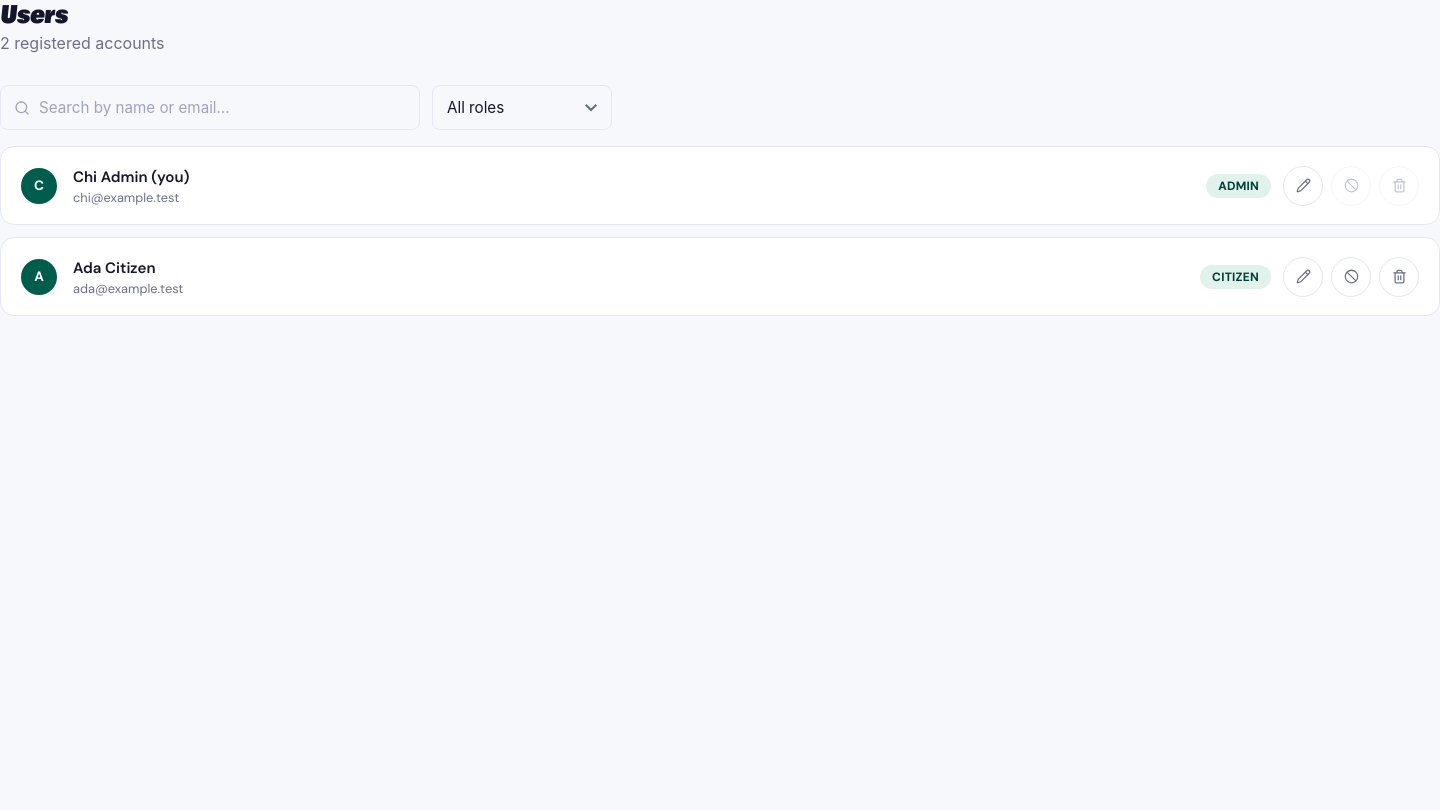
UsersPage › offers an email change for another user in the edit dialog, but not for one's own account
expect the text "Ada Citizen" is shown: met, box [73,258,156,278]
Click the button named "Edit user" in the row of "ada@example.test". click: (1303, 276)
box: [1283,256,1323,296]
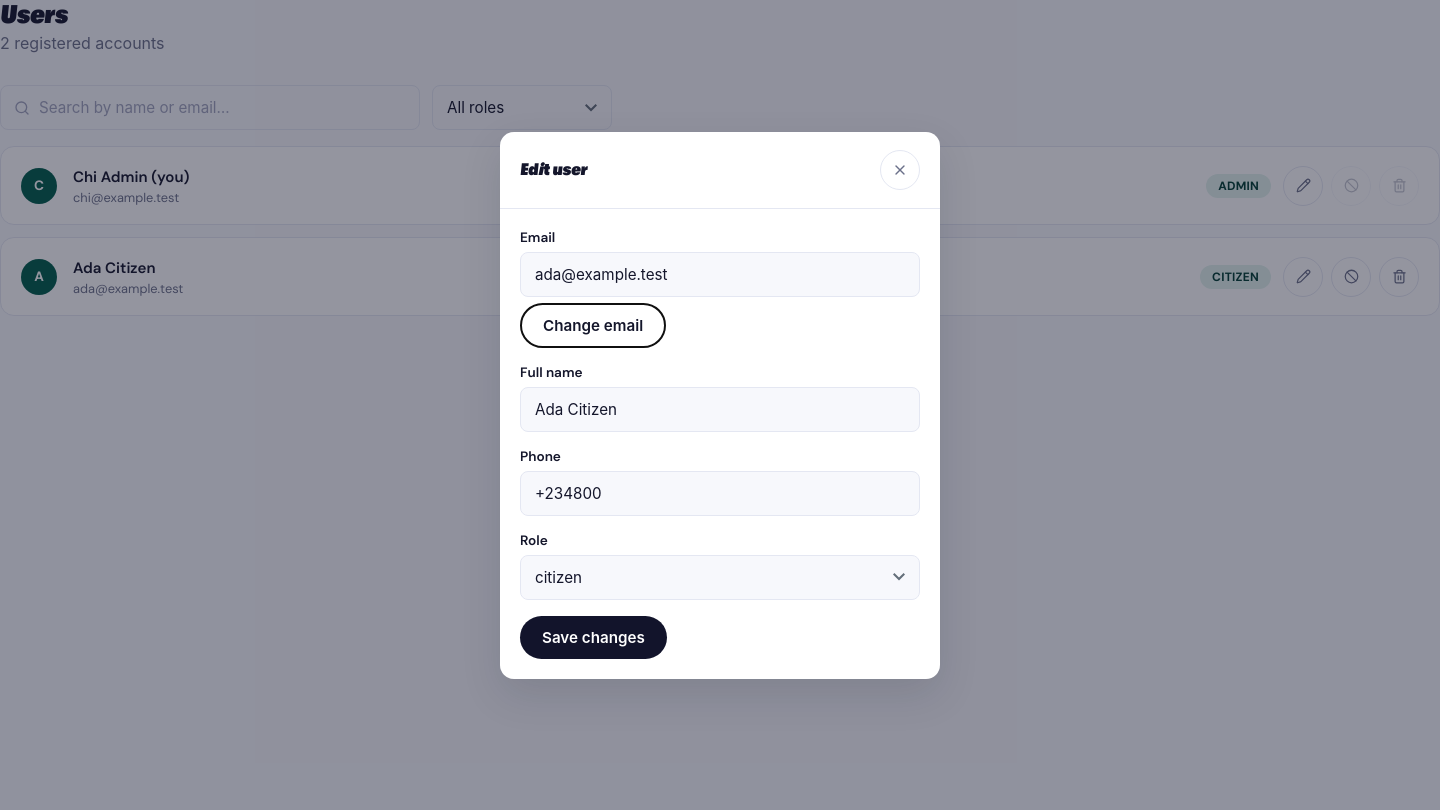
expect the button "Change email" is shown: met, box [520,302,666,348]
Click the button named "Close". click: (900, 170)
box: [880,150,920,190]
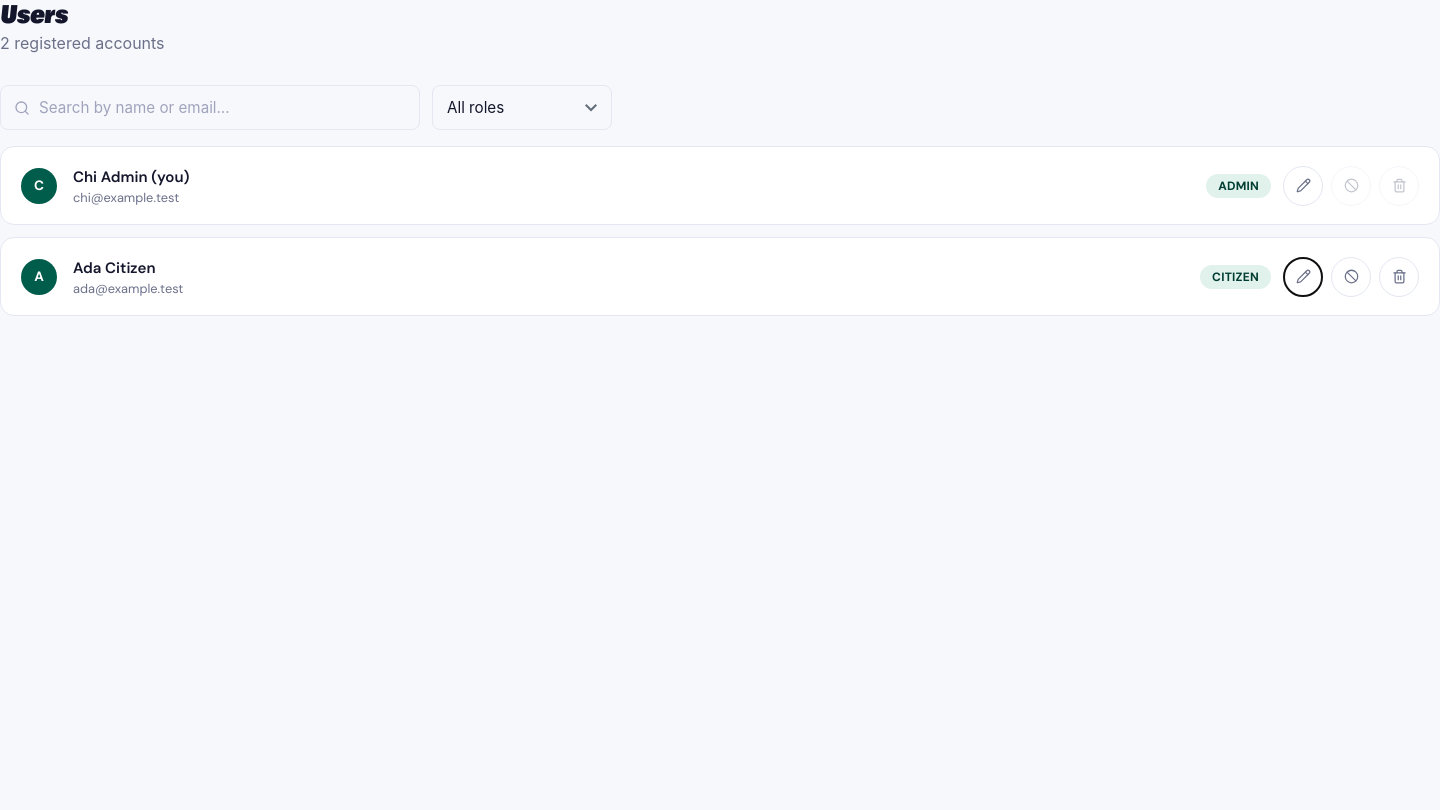
Click the button named "Edit user" in the row of "(you)". click: (1303, 186)
box: [1283,166,1323,206]
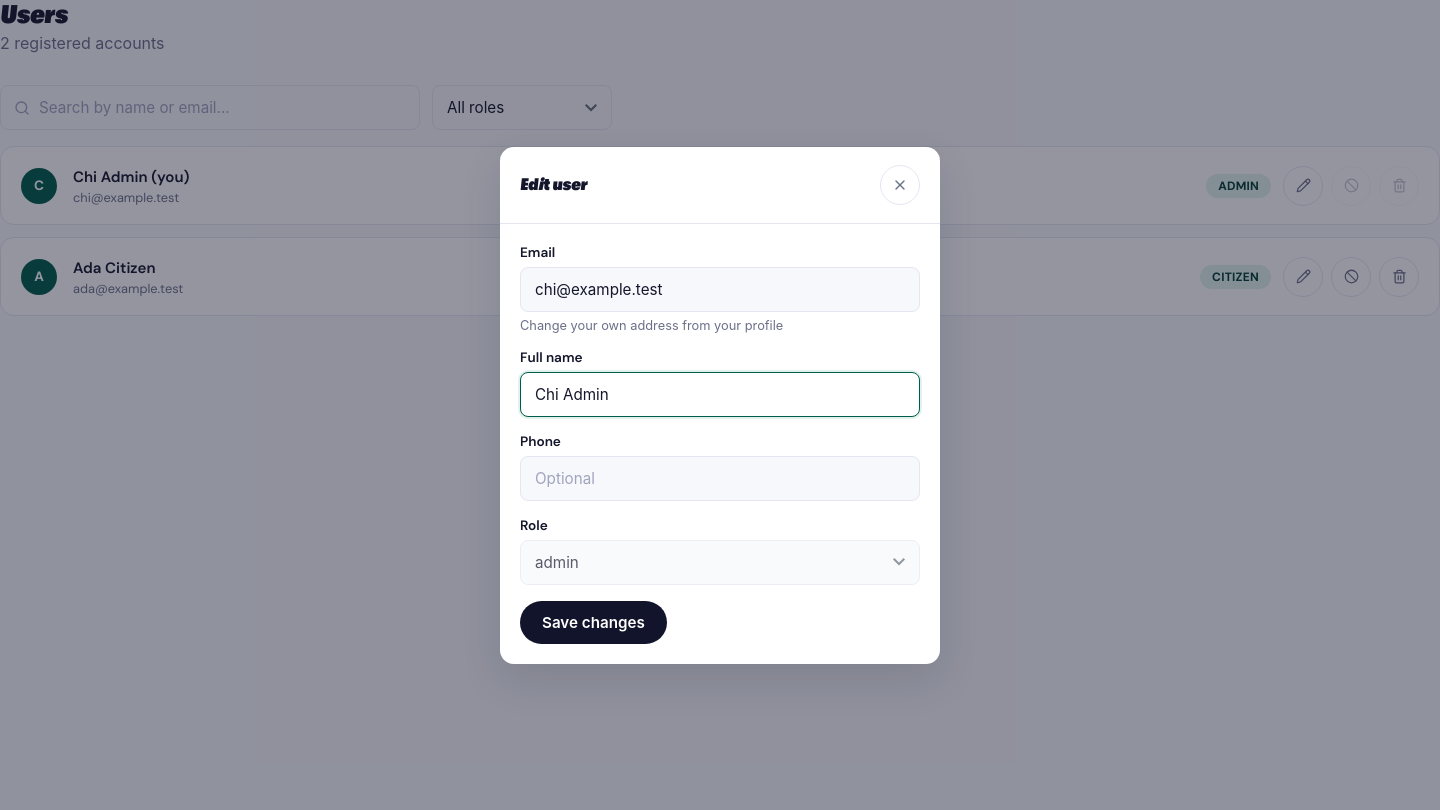
expect the button "Change email" is not shown: met
expect the text "Change your own address from your profile" is shown: met, box [520,318,783,332]
